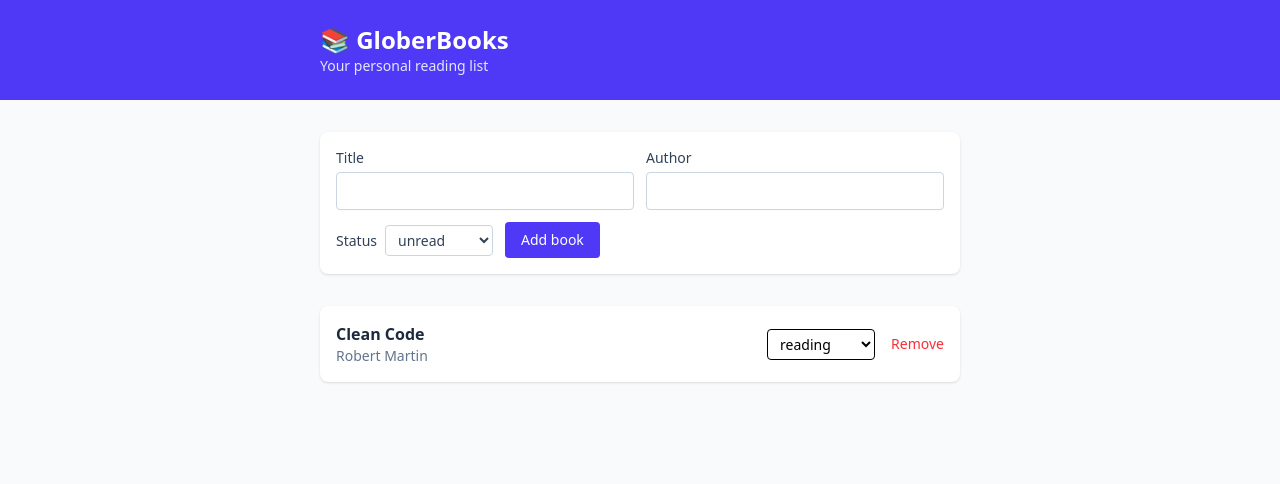
Test case: App mutation error feedback (tasks 2.1 + 2.2) › shows the error banner when a delete fails and keeps the book list stable
The image size is (1280, 484).
Check: the text "Clean Code" is shown, box [336, 323, 424, 345]
Step 1. Click the button "Remove" → (918, 344), box [891, 334, 944, 354]
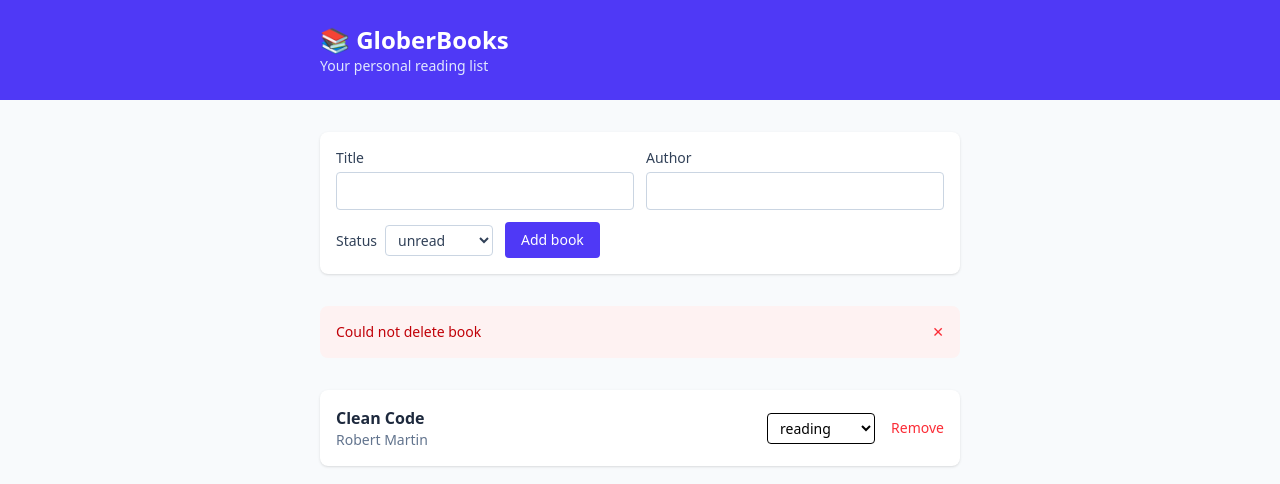
Check: the text "Clean Code" is shown, box [336, 407, 424, 429]
Check: the message "Could not delete book ✕" is shown, box [320, 306, 960, 358]
Check: the message shows "Could not delete book", box [336, 322, 481, 341]
